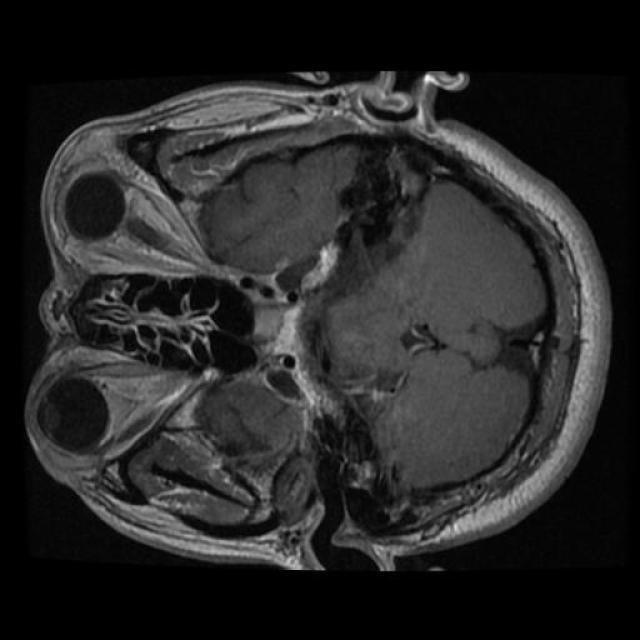Pituitary: (239, 236, 345, 423)
